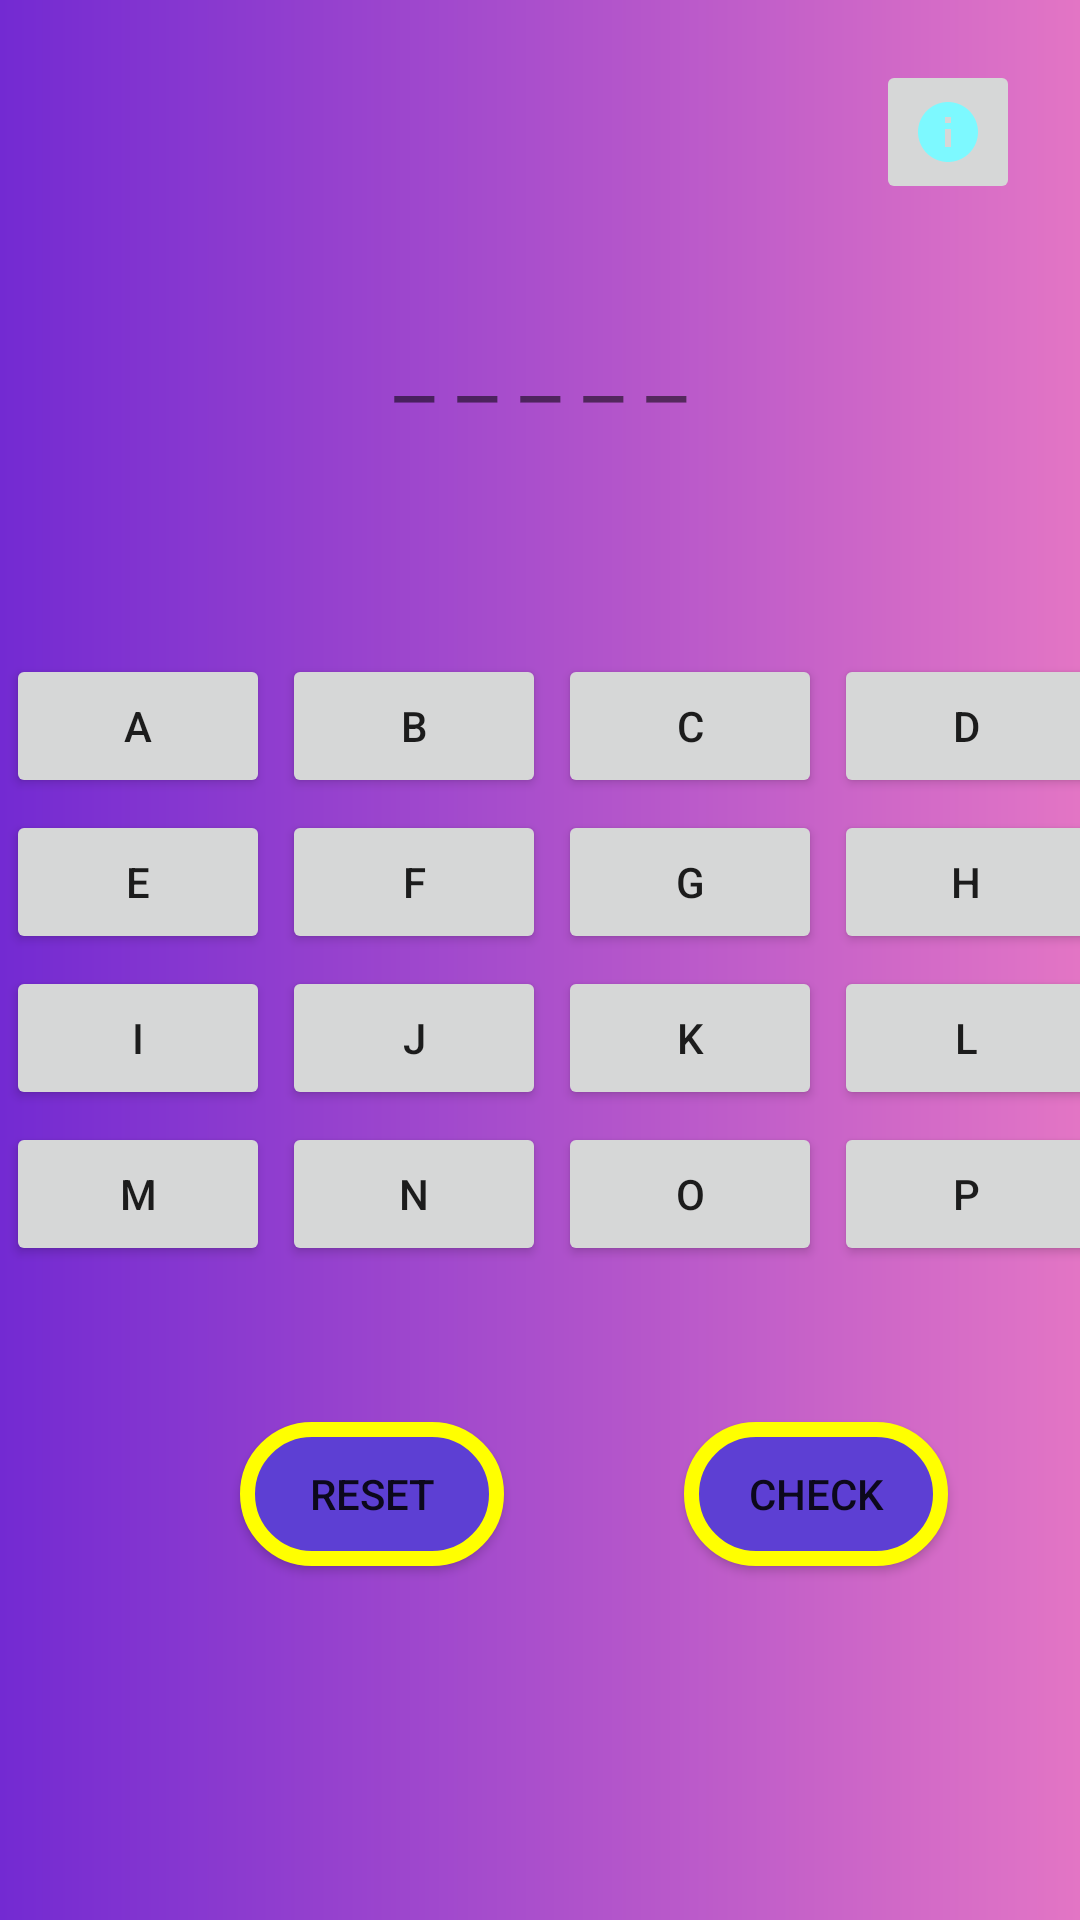

Named icons in this screenshot (1080px x 1920px) and their centers, (x=x, y=y):
info: (x=948, y=132)
